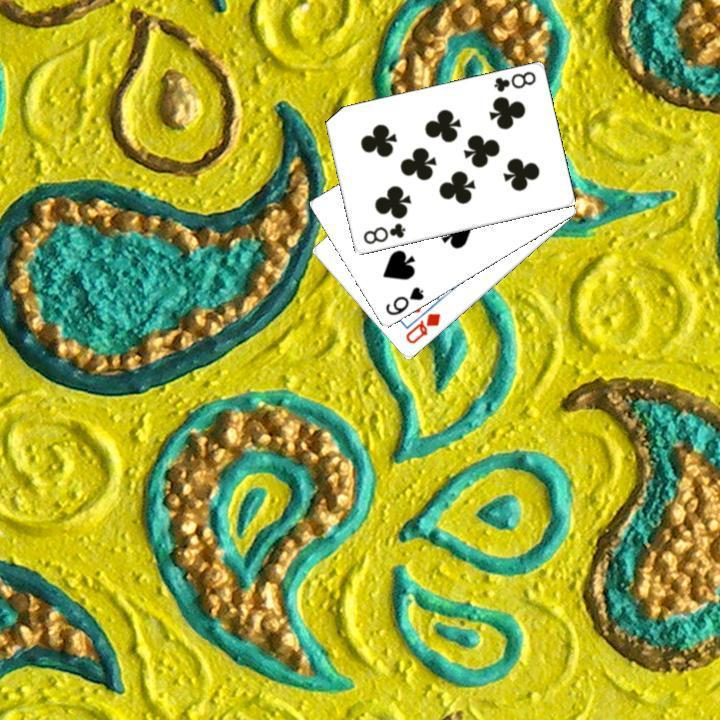6: (381, 283, 426, 318)
8: (358, 219, 407, 247), (489, 67, 538, 94)
Q: (401, 309, 443, 346)
